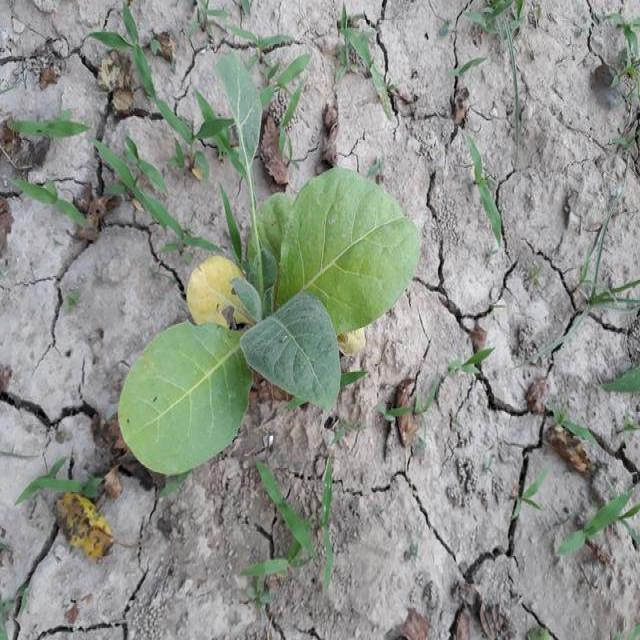crop: (114, 50, 428, 478)
